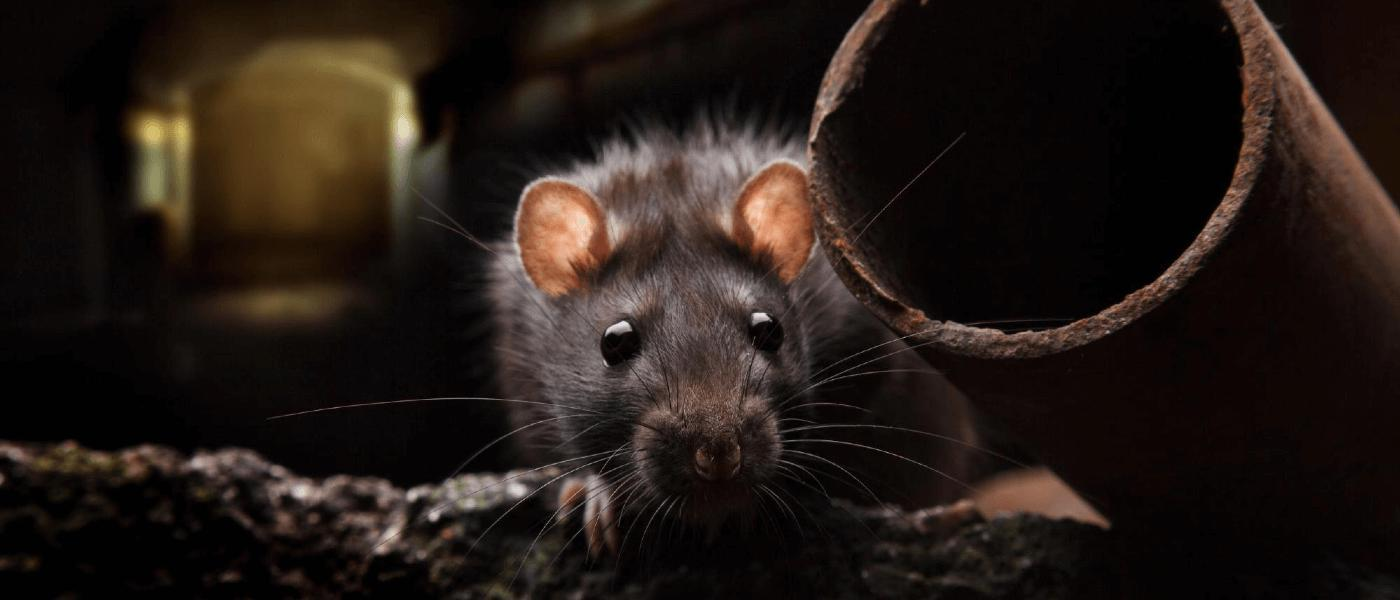rat: (490, 134, 980, 554)
